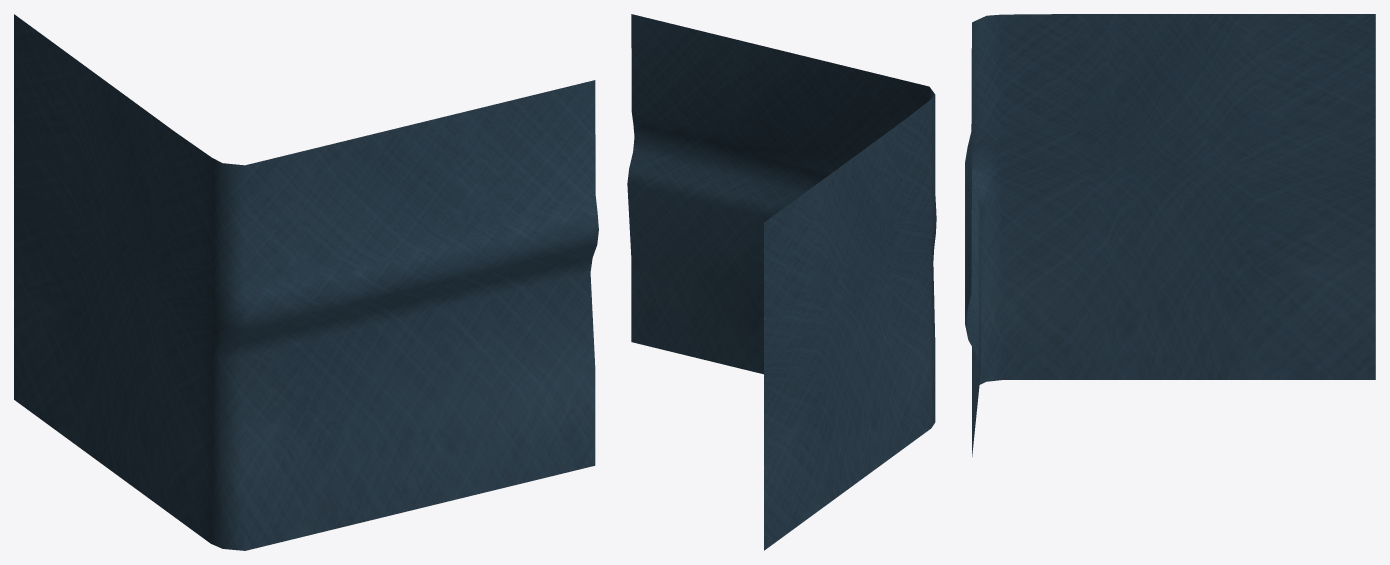
File: tl1_7_fallR.FBX
3 views of the same model, side by side, from view 1: azimuth 30°, elevation 25°; view 2: azimuth 150°, elevation 25°; view 3: azimuth 270°, elevation 25° (orthographic). The views are drawn at different scales.
Visible parts, largest first — view 1: tl_fallright; view 2: tl_fallright; view 3: tl_fallright.
Boxes of the visible parts, box(x1,y1,x2,y2) form: tl_fallright: box(14, 14, 598, 550); tl_fallright: box(627, 14, 936, 550); tl_fallright: box(965, 14, 1375, 456).
Bounding box in the file's own units: 100 × 100 × 102.
